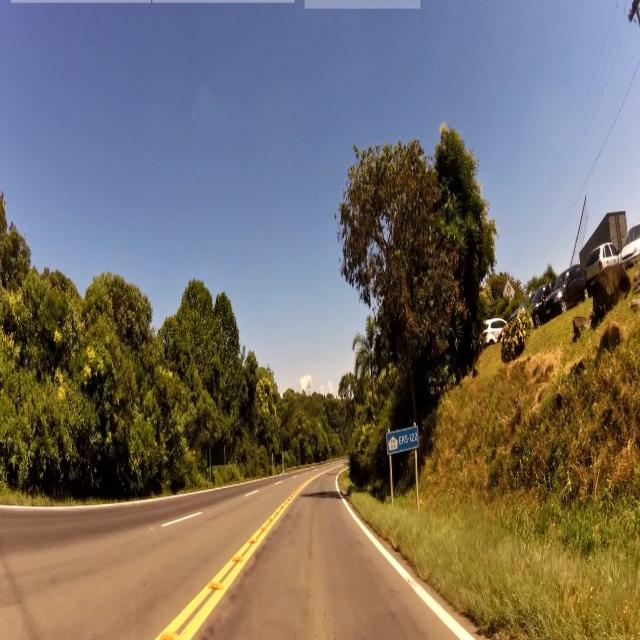LOC-6: (388, 429, 418, 450)
